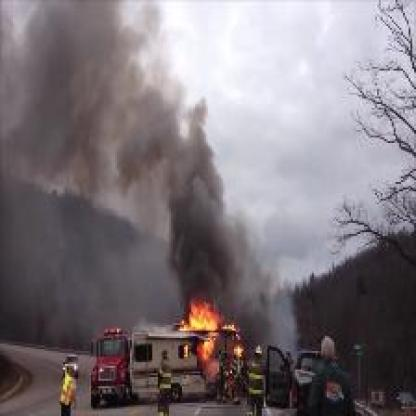fire: (173, 300, 242, 376)
smoke: (0, 6, 258, 295)
